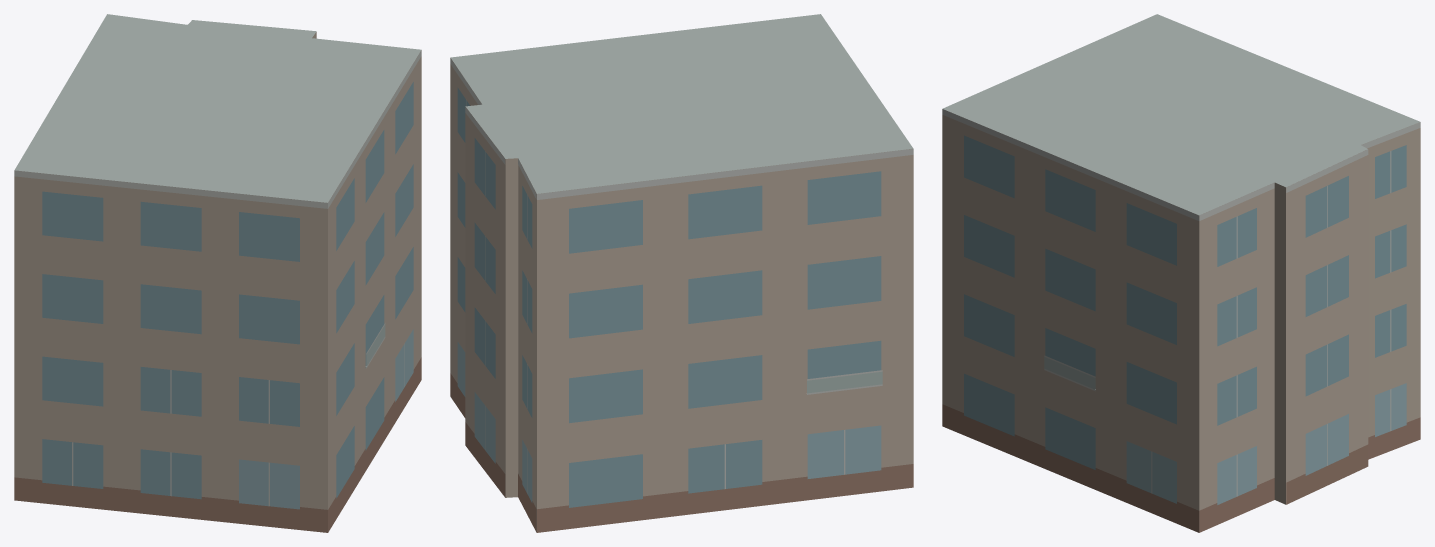
The model's file is survey-upis-32818716.glb.
3 renders of one model, left to right at view 1: azimuth 30°, elevation 25°; view 2: azimuth 150°, elevation 25°; view 3: azimuth 270°, elevation 25°, orthographic. The views are drawn at different scales.
Parts seen in each view (by area): view 1: survey-upis-32818716.tmp; view 2: survey-upis-32818716.tmp; view 3: survey-upis-32818716.tmp.
Boxes of the visible parts, x1=… form: survey-upis-32818716.tmp: x1=14, y1=14, x2=421, y2=532; survey-upis-32818716.tmp: x1=450, y1=14, x2=913, y2=532; survey-upis-32818716.tmp: x1=942, y1=14, x2=1420, y2=532.
Bounding box in the file's own units: 18.11 × 13.3 × 18.17.
